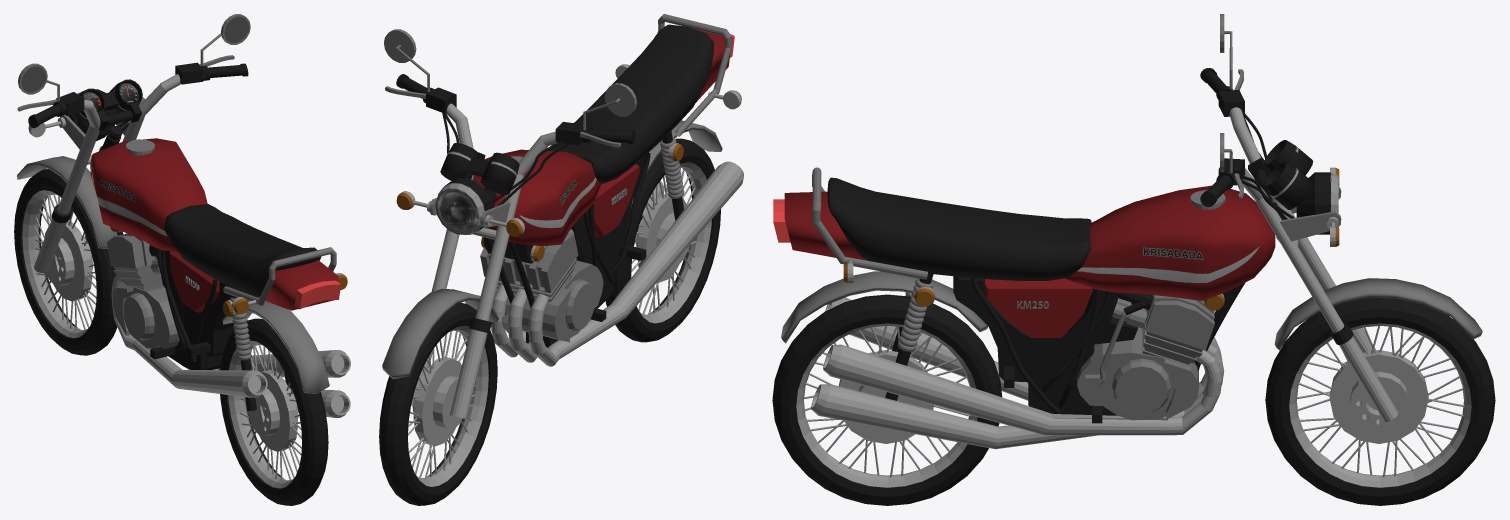
Rendered from motorcycle.fbx.
The picture shows the model from 3 angles, left to right: view 1: azimuth 30°, elevation 25°; view 2: azimuth 150°, elevation 25°; view 3: azimuth 270°, elevation 25°; orthographic projection. The views are drawn at different scales.
Visible parts, largest first — view 1: Cube.008, Plane.004, Cylinder.021, Cylinder.022; view 2: Cube.008, Plane.004, Cylinder.022, Cylinder.021; view 3: Cube.008, Cylinder.022, Cylinder.021, Plane.004.
Boxes of the visible parts, x1,y1,x2,y2 form: Cube.008: (90,138,350,417); Plane.004: (17,14,250,272); Cylinder.021: (220,318,328,505); Cylinder.022: (14,169,117,355); Cube.008: (473,14,743,366); Plane.004: (382,29,636,418); Cylinder.022: (379,302,497,505); Cylinder.021: (605,138,720,342); Cube.008: (773,167,1275,449); Cylinder.022: (1265,297,1495,505); Cylinder.021: (772,294,1002,505); Plane.004: (1200,14,1482,421).
Size of the model in its own units: 2808 by 4152 by 6340.
